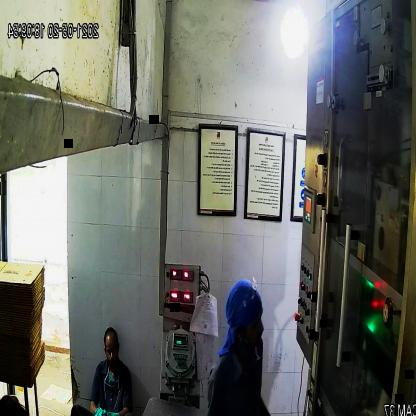no_goggles: (235, 310, 266, 335), (102, 340, 122, 358)
